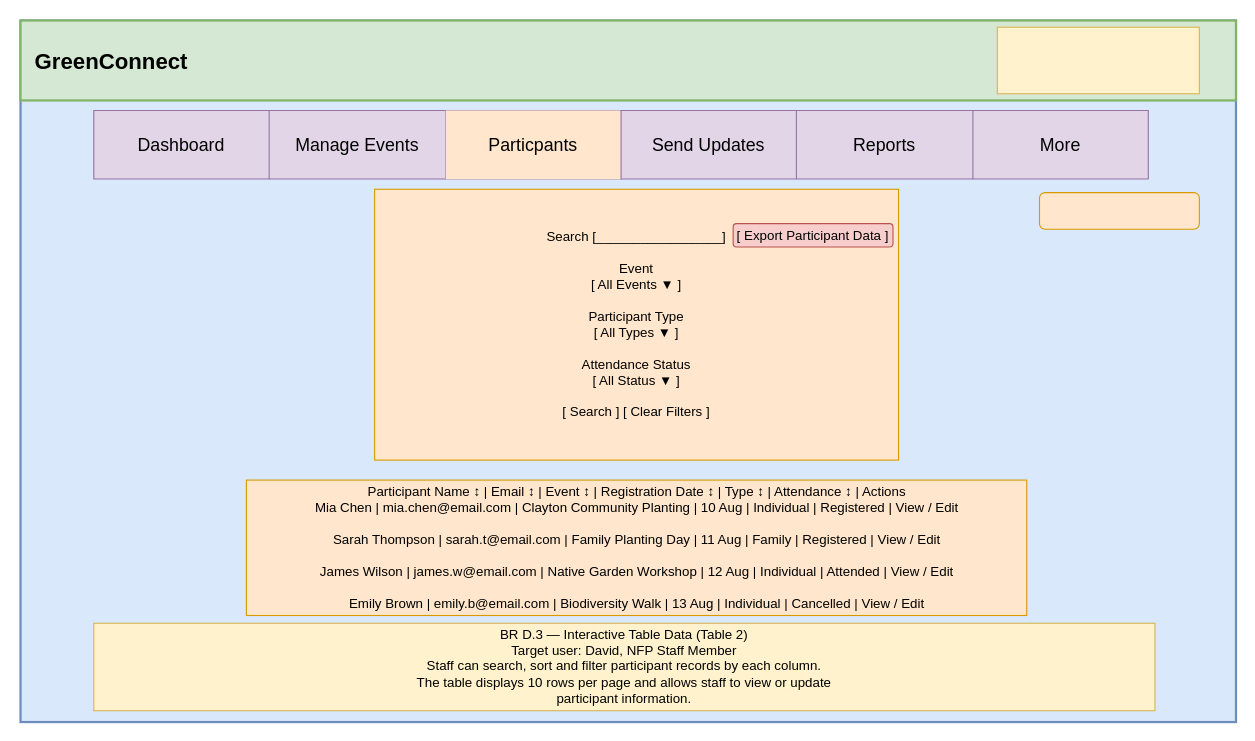
Image size: 1255x741. Some labels were removed from this diagram. Each missing label, with the centre of its shape:
[ + Create New Event ]: [1118,210]
Staff Account David Nguyen ▼: [1097,60]
